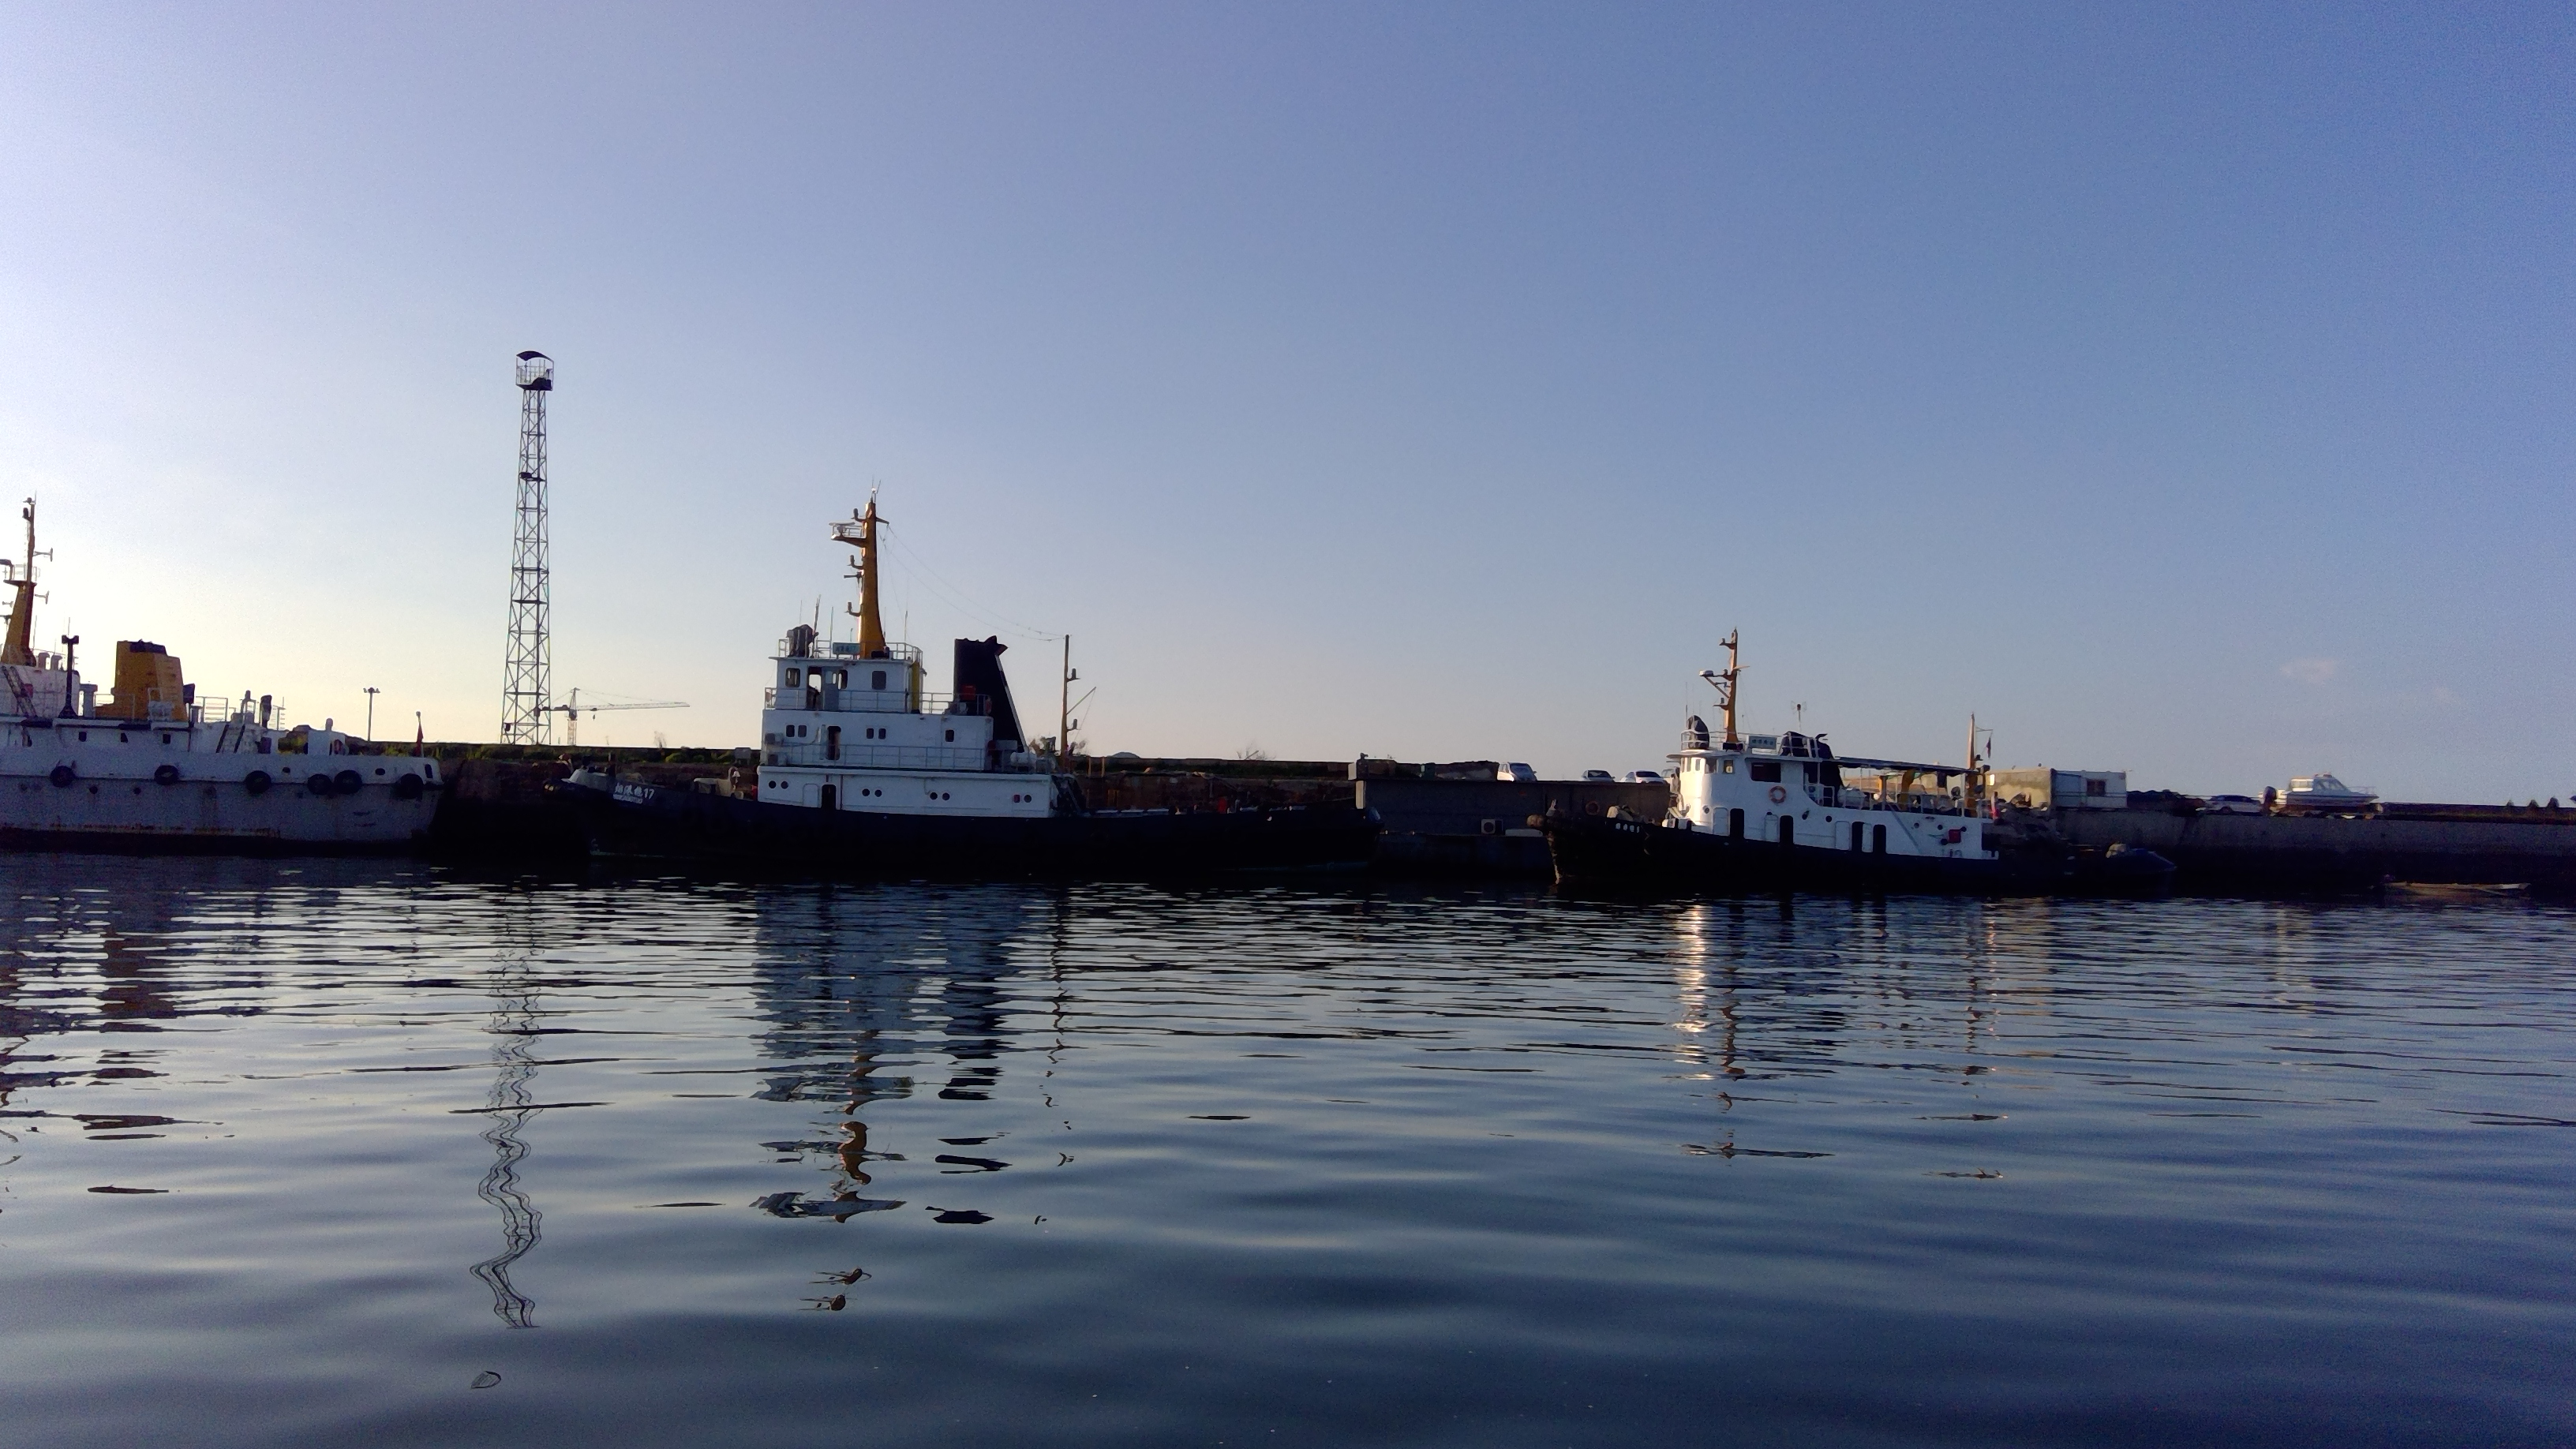ship: (575, 494, 1215, 876), (0, 501, 446, 892), (1543, 646, 2017, 916)
